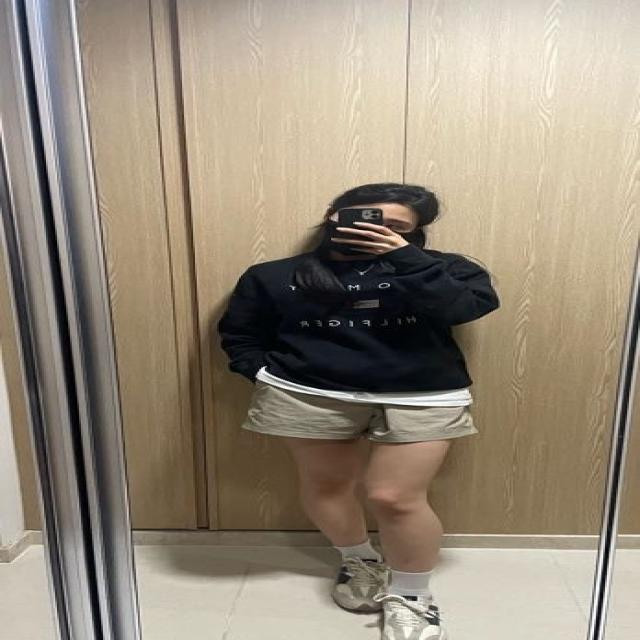mtm: (218, 248, 506, 392)
shortpants: (243, 378, 486, 445)
